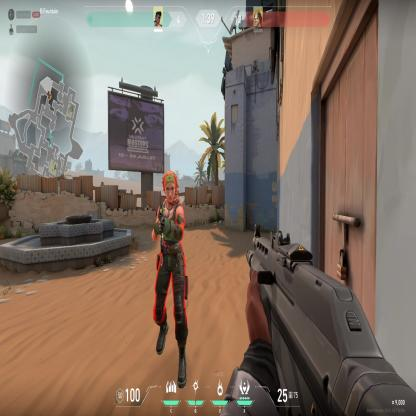enemy: (150, 166, 190, 388)
